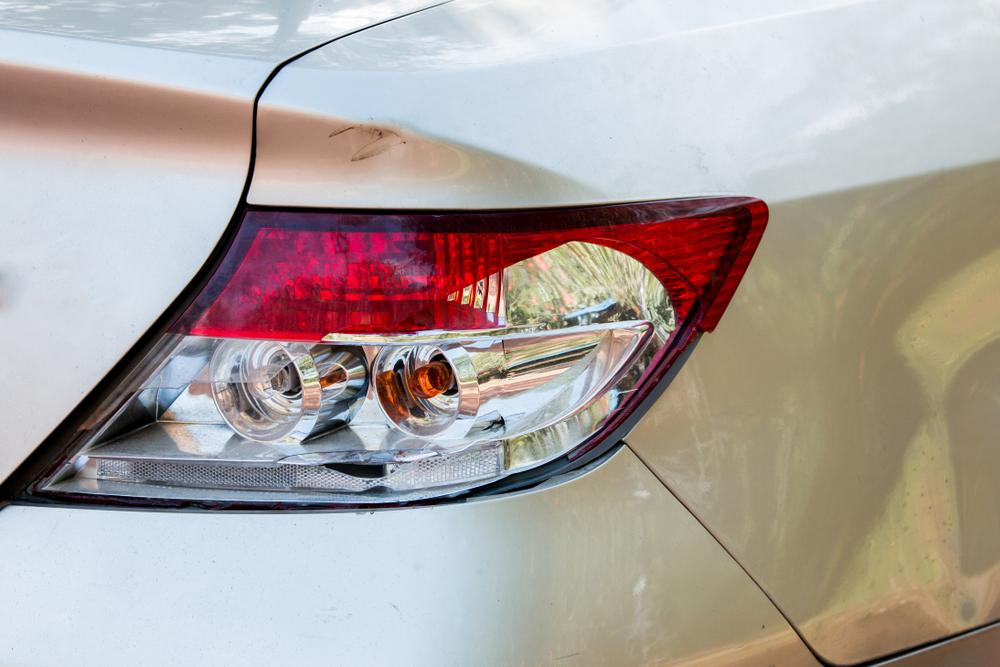lamp broken: (15, 204, 760, 512)
